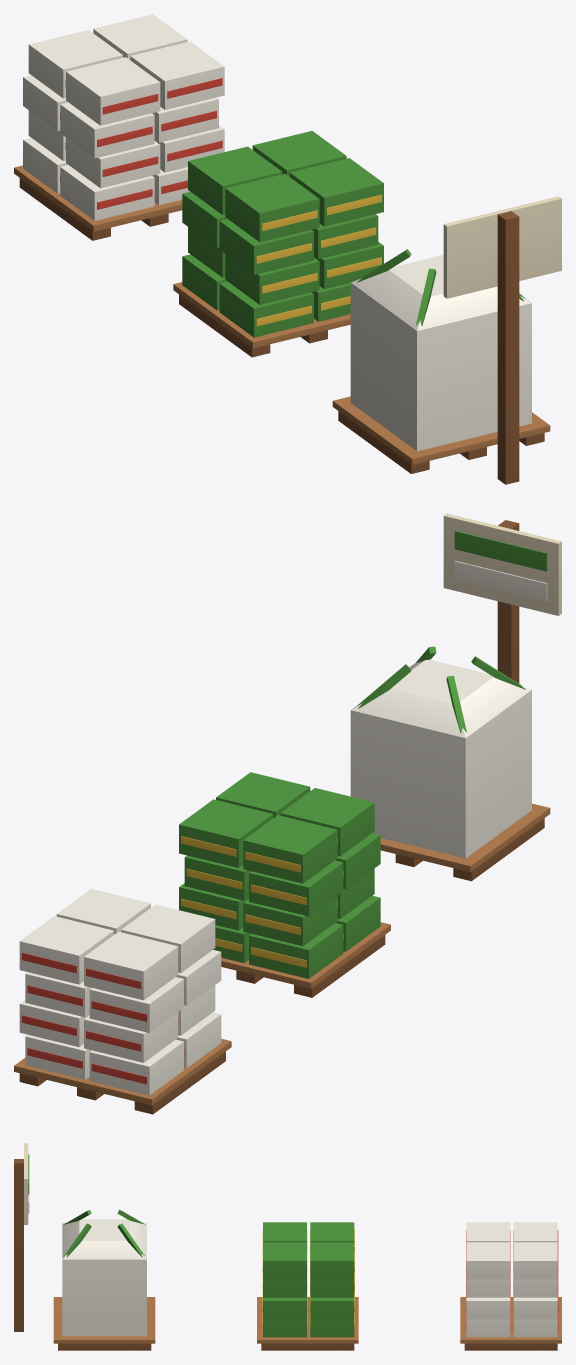
File: farm_supply.glb
3 views of the same model, one above another, from view 1: azimuth 30°, elevation 25°; view 2: azimuth 150°, elevation 25°; view 3: azimuth 270°, elevation 25° (orthographic). The views are drawn at different scales.
Parts seen in each view (by area): view 1: farm_supply; view 2: farm_supply; view 3: farm_supply.
Boxes of the visible parts, left/top/right/bottom form: farm_supply: left=14, top=14, right=561, bottom=484; farm_supply: left=14, top=513, right=561, bottom=1114; farm_supply: left=14, top=1143, right=561, bottom=1350.
Bounding box in the file's own units: 1.2 × 2.2 × 6.47.
Materials: 1 (1 with a texture image).
